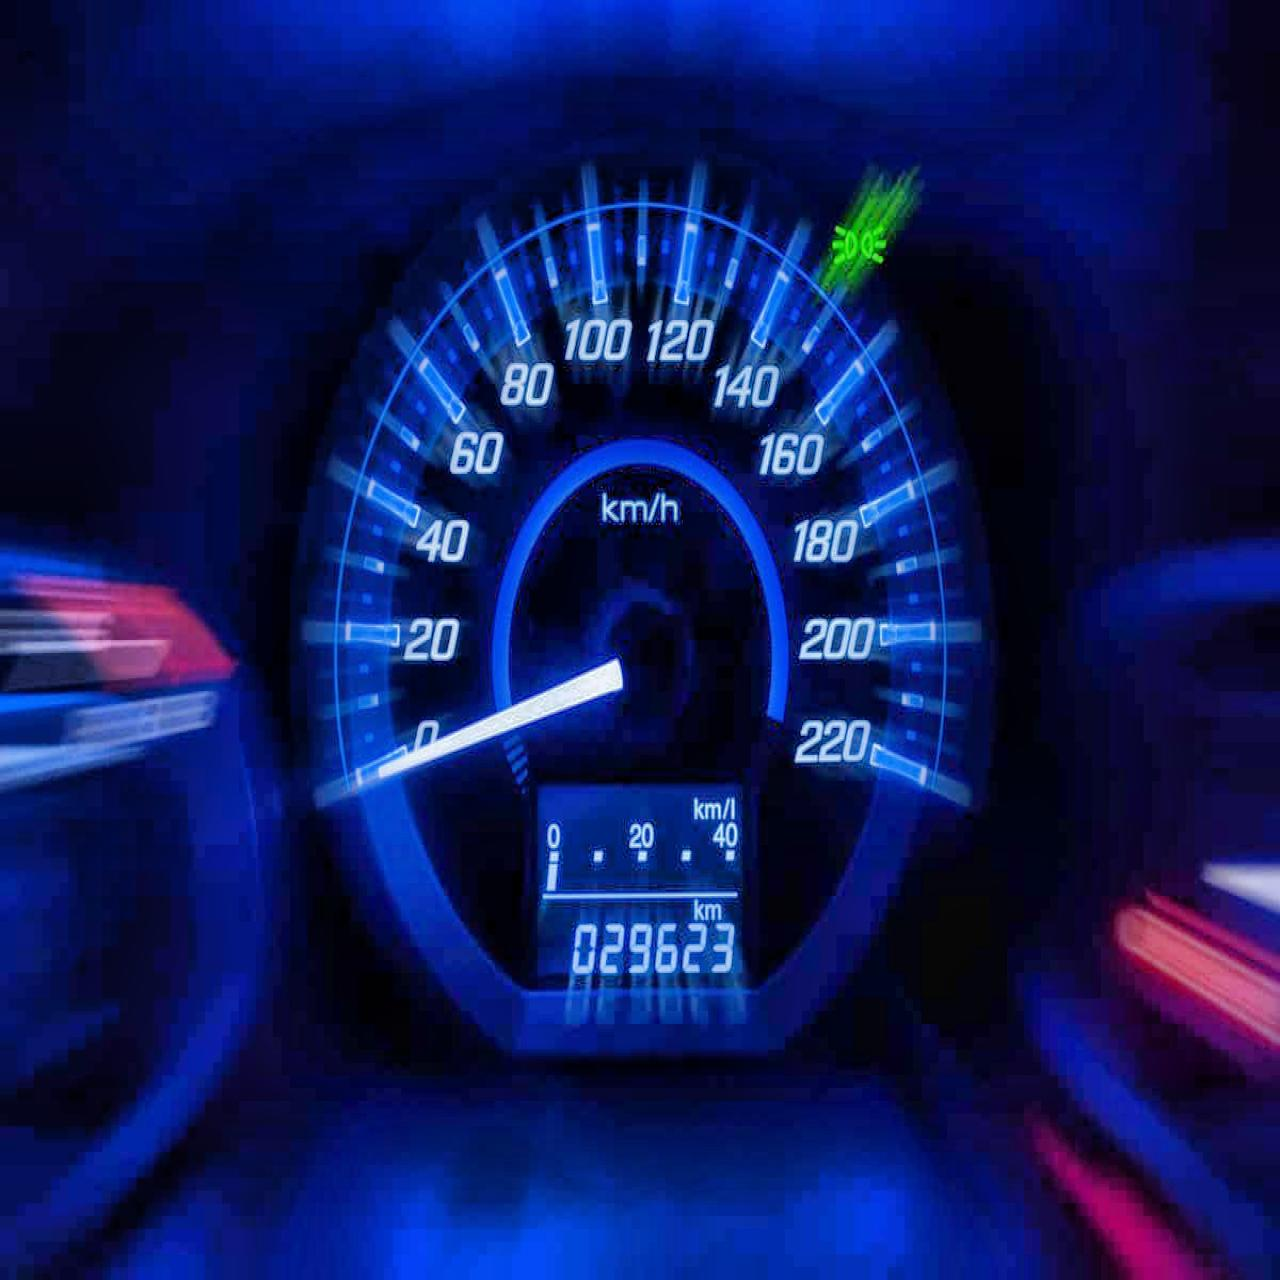0: (568, 919, 599, 983)
2: (682, 921, 708, 974), (600, 925, 625, 976)
3: (712, 924, 734, 974)
6: (655, 924, 678, 979)
9: (629, 925, 653, 974)
odometer: (542, 898, 744, 990)
